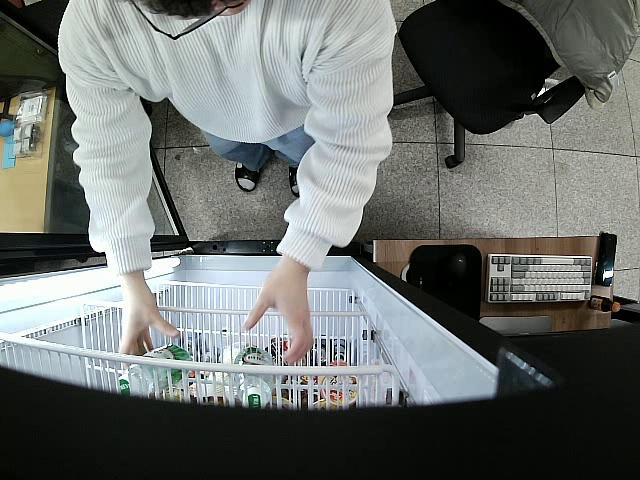00_hand: (243, 267, 314, 364), (119, 281, 181, 367)
19_17cha: (116, 343, 192, 400), (231, 347, 276, 413)
